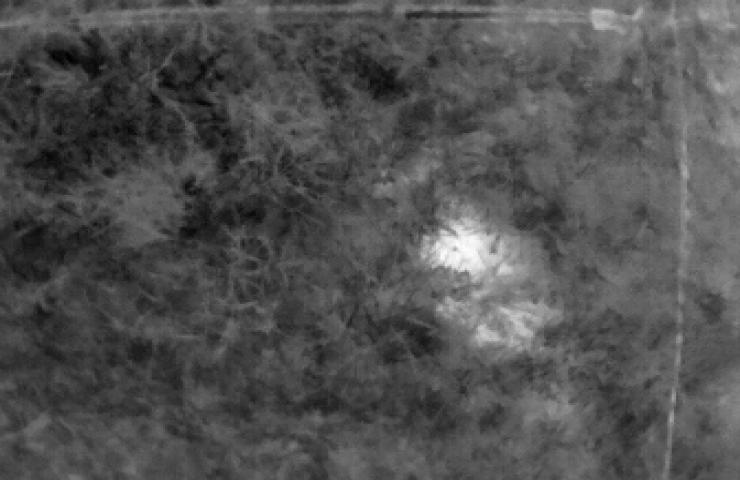landmines: (421, 211, 508, 279)
